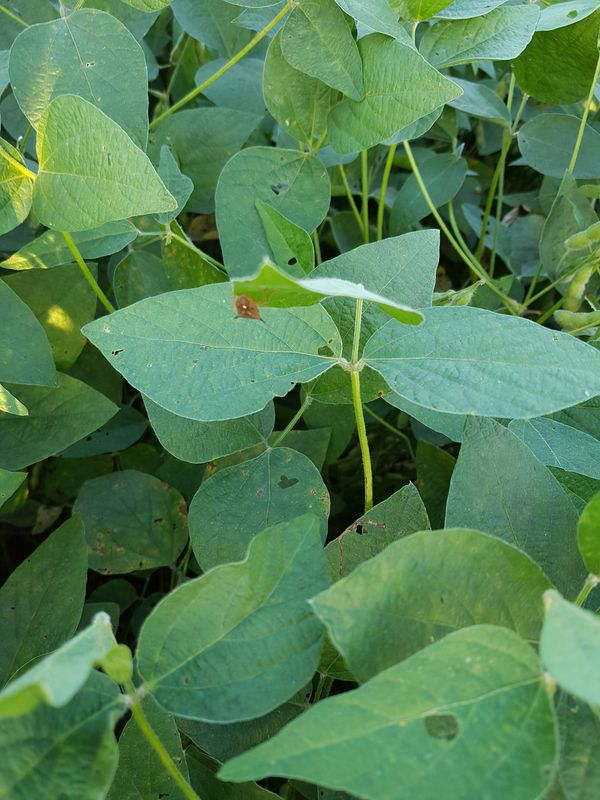Euschistus_heros_adulto: (227, 283, 275, 330)
